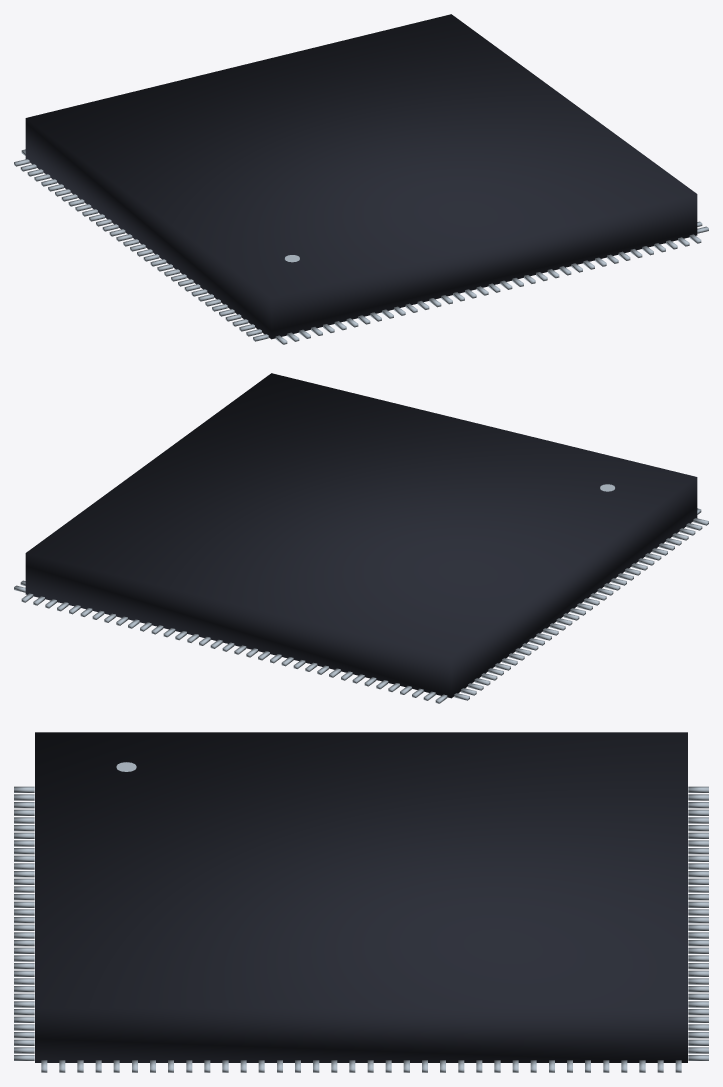
The picture shows the model from 3 angles, top to bottom: view 1: azimuth 30°, elevation 25°; view 2: azimuth 150°, elevation 25°; view 3: azimuth 270°, elevation 25°; orthographic projection. The views are drawn at different scales.
Visible parts, largest first — view 1: L105_U1_chip, L105_U1_silver; view 2: L105_U1_chip, L105_U1_silver; view 3: L105_U1_chip, L105_U1_silver.
Boxes of the visible parts, bbox=[...] form: L105_U1_chip: bbox=[25, 14, 697, 339]; L105_U1_silver: bbox=[14, 149, 708, 344]; L105_U1_chip: bbox=[25, 373, 697, 698]; L105_U1_silver: bbox=[14, 484, 708, 703]; L105_U1_chip: bbox=[35, 732, 687, 1062]; L105_U1_silver: bbox=[14, 762, 708, 1072].
Bounding box in the file's own units: 0.0288 × 0.00262 × 0.0288.
